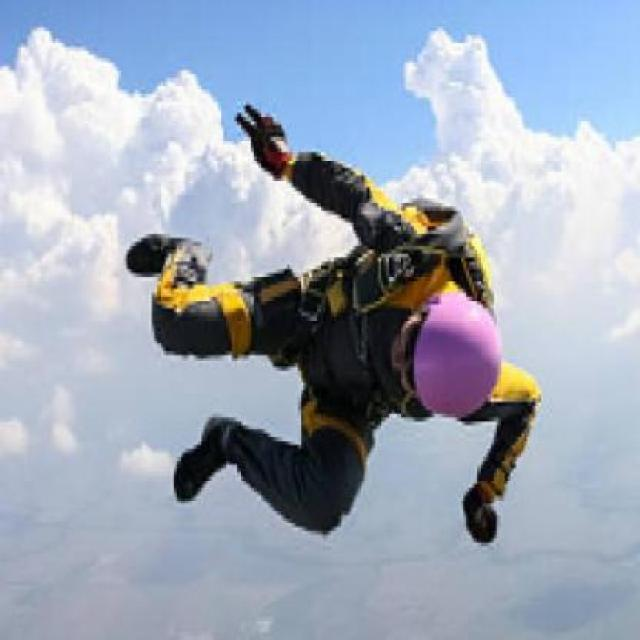fall: (124, 91, 531, 544)
